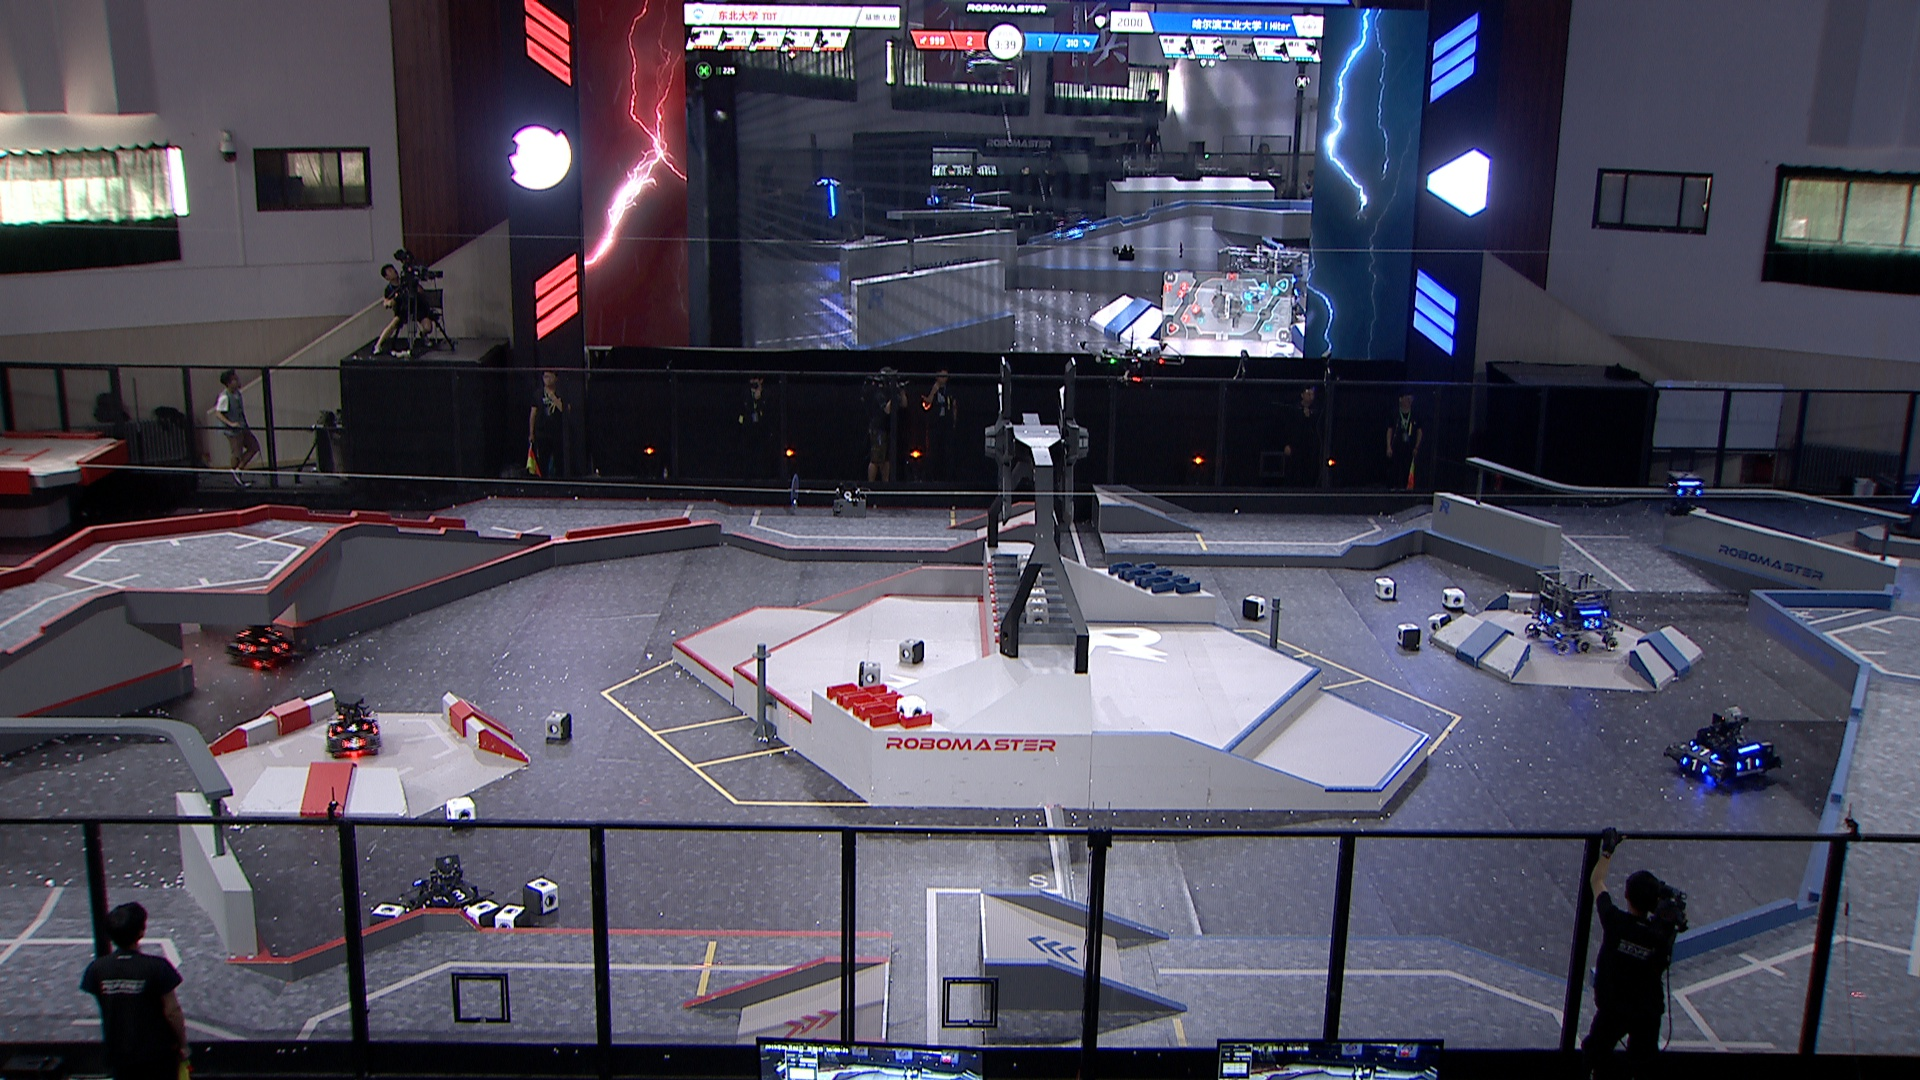armor: (444, 885, 473, 903), (1692, 742, 1718, 761), (1681, 757, 1706, 774), (1737, 757, 1760, 771), (345, 733, 363, 750), (237, 641, 256, 655), (1676, 488, 1698, 500), (1908, 487, 1920, 509), (273, 640, 287, 657), (262, 628, 281, 641), (339, 723, 365, 732), (1584, 617, 1602, 629), (1538, 612, 1552, 626)
base: (1884, 463, 1920, 543)
car: (1664, 702, 1784, 793), (1527, 562, 1625, 657), (407, 853, 487, 924), (320, 694, 389, 757), (225, 615, 309, 665)
ignore: (798, 175, 860, 245), (924, 181, 972, 219)
watcher: (1660, 467, 1712, 520)
